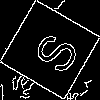S: (24, 25, 81, 78)
